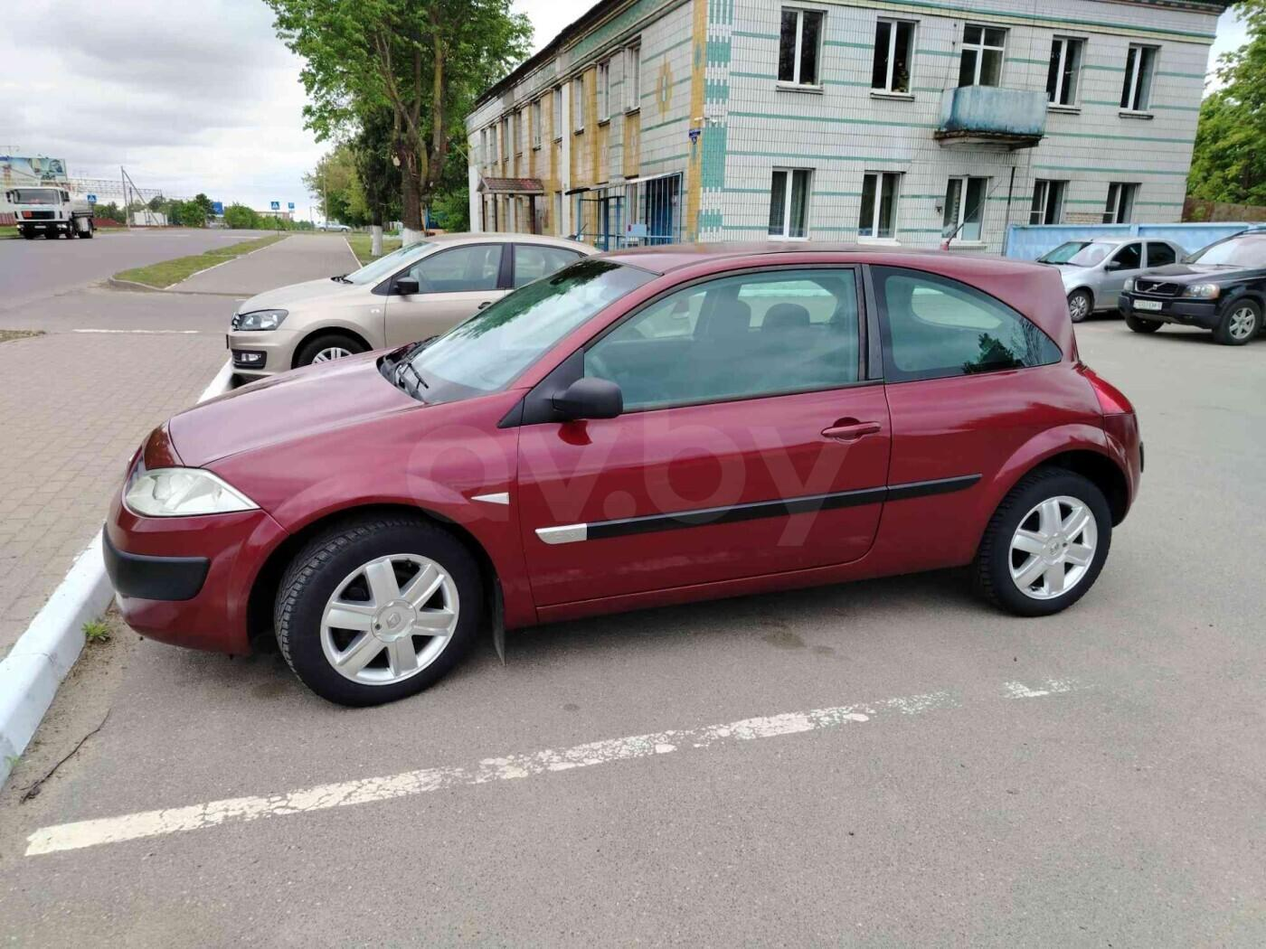Megane_2002-2006: (103, 241, 1145, 682)
